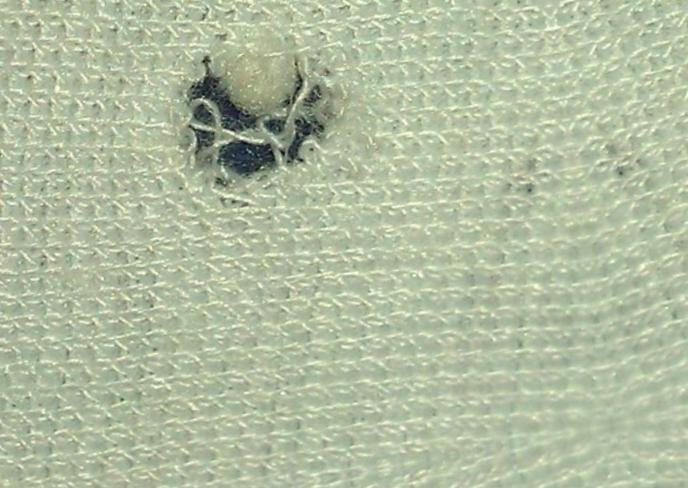hole: (203, 28, 309, 121)
